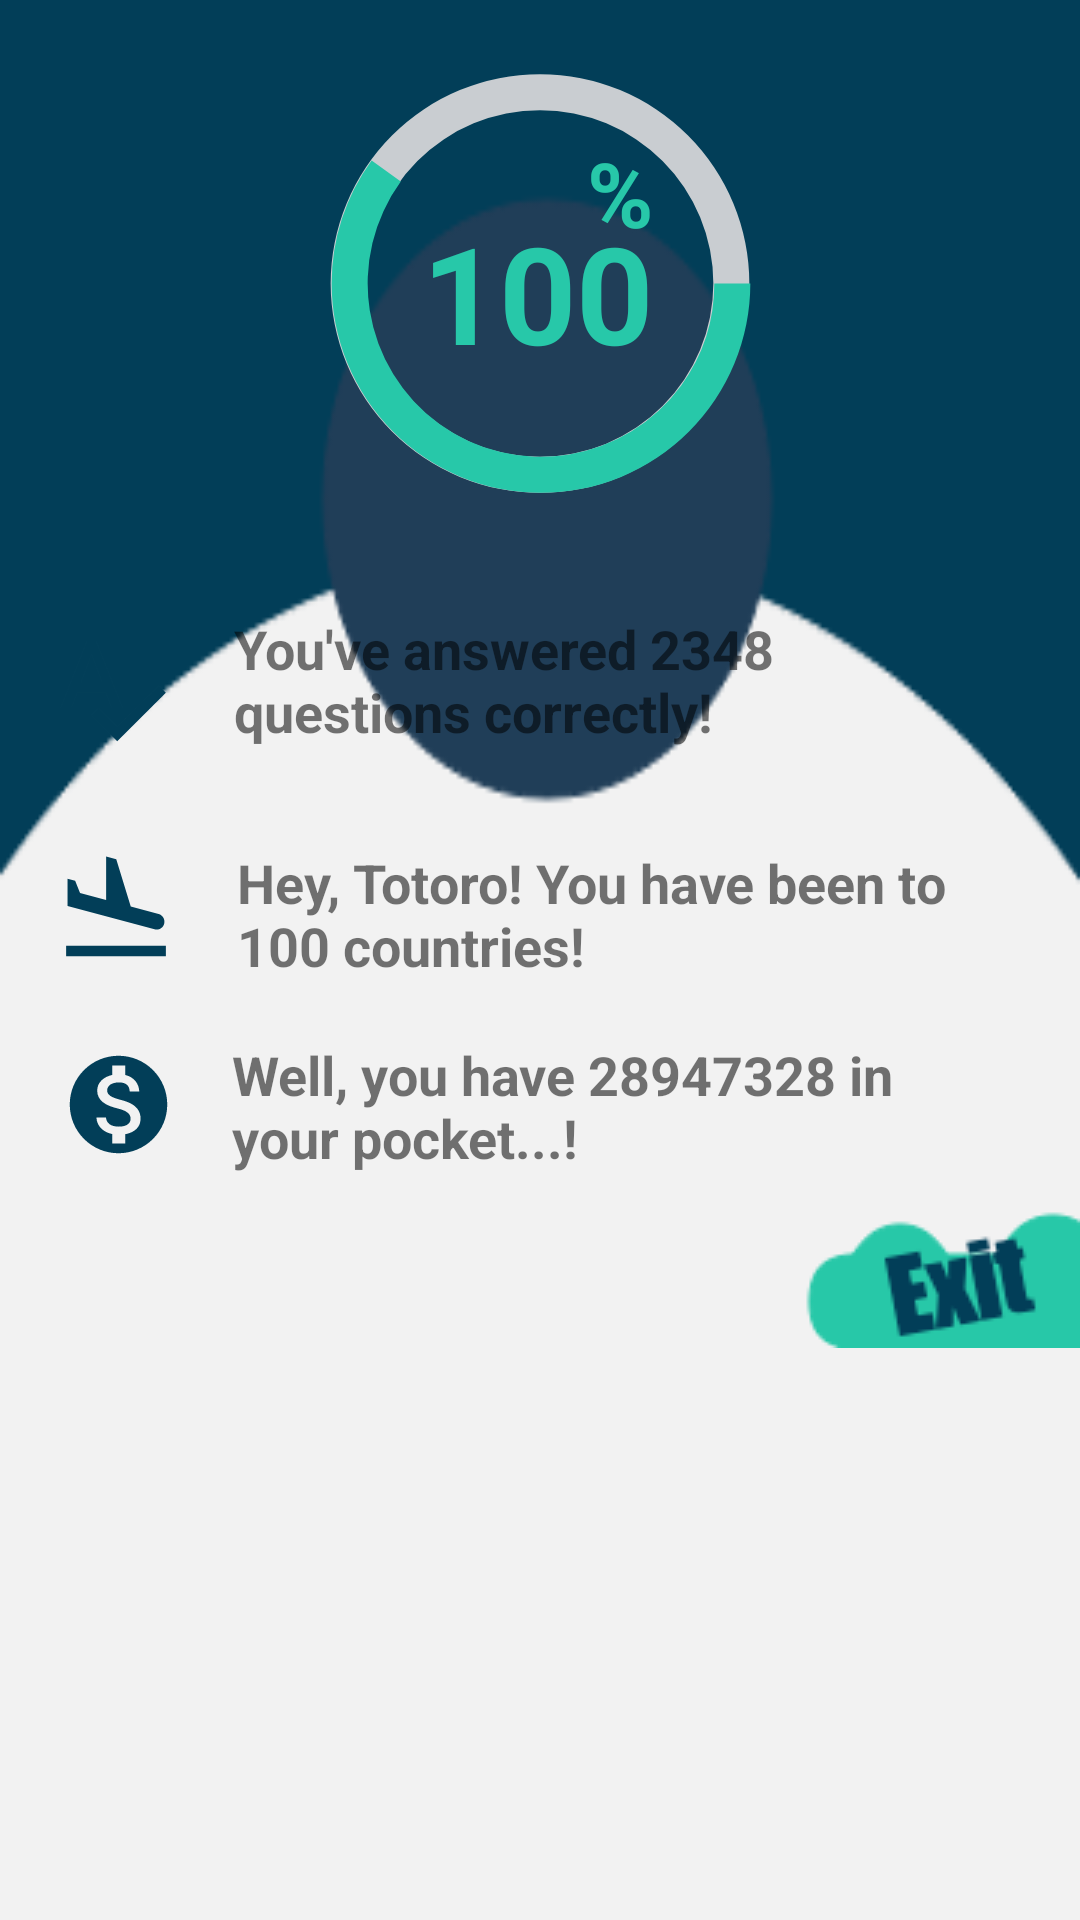

Screen size 1080 x 1920. Icon name, then its center in pixels as (x=x, y=y):
landing: (x=116, y=906)
money: (x=118, y=1104)
